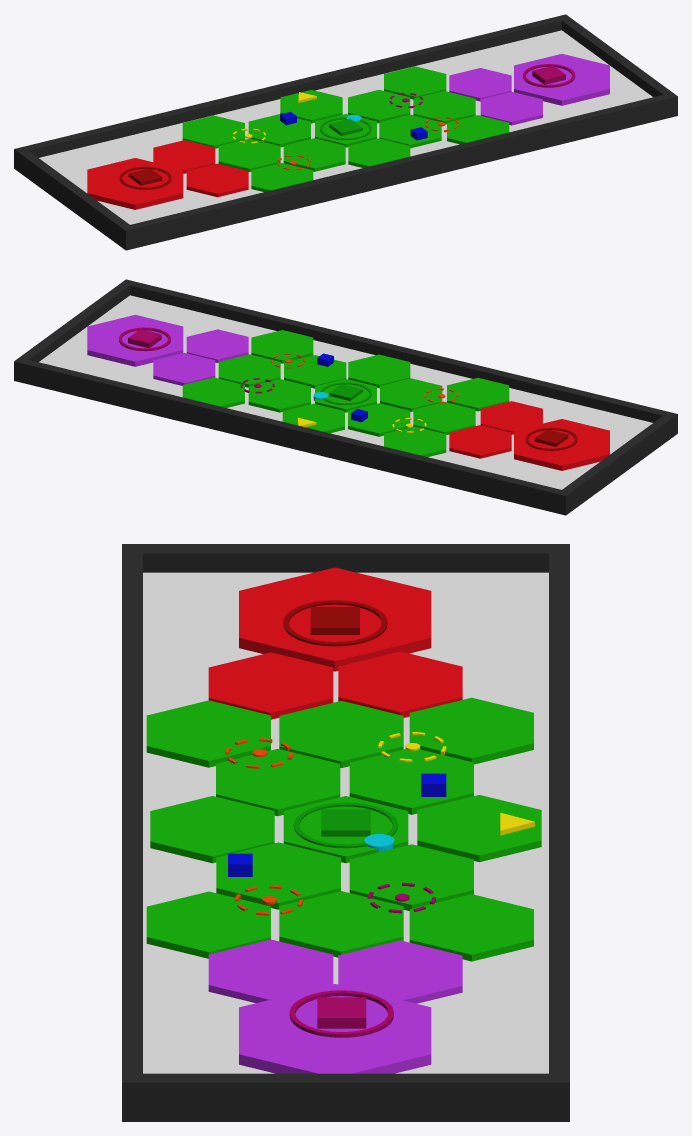
The picture shows the model from 3 angles, top to bottom: view 1: azimuth 30°, elevation 25°; view 2: azimuth 150°, elevation 25°; view 3: azimuth 270°, elevation 25°; orthographic projection. The views are drawn at different scales.
Parts seen in each view (by area): view 1: Sol, Cube, Plane.001, Plane, Circle.006, Circle.005, Circle; view 2: Sol, Cube, Plane.001, Plane, Circle.006, Circle.005, Circle; view 3: Sol, Cube, Plane.001, Plane, Circle.006, Circle.005, Circle.
Part boxes in pixels (x1,y1,x2,y2): Sol: [87, 54, 609, 209]; Cube: [14, 14, 677, 250]; Plane.001: [40, 31, 650, 224]; Plane: [39, 30, 652, 210]; Circle.006: [523, 64, 575, 87]; Circle.005: [119, 166, 171, 189]; Circle: [320, 117, 371, 139]; Sol: [87, 314, 609, 470]; Cube: [14, 279, 677, 515]; Plane.001: [40, 296, 651, 489]; Plane: [39, 295, 652, 471]; Circle.006: [119, 327, 170, 351]; Circle.005: [525, 427, 577, 450]; Circle: [320, 382, 371, 404]; Sol: [146, 567, 541, 1073]; Cube: [122, 544, 569, 1121]; Plane.001: [147, 576, 547, 1073]; Plane: [143, 572, 548, 1073]; Circle.006: [289, 990, 393, 1037]; Circle.005: [283, 600, 387, 646]; Circle: [293, 802, 398, 848].
Size of the model in its own units: 2077 by 5910 by 215.
